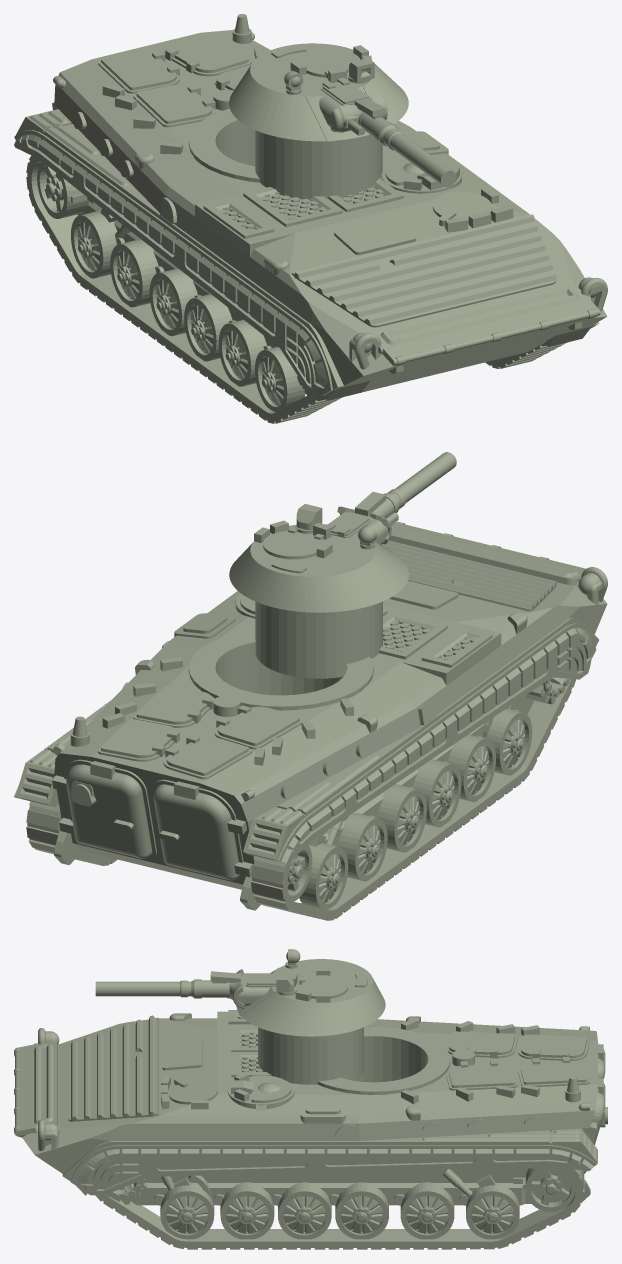
The model's file is bmp1_bergman.glb.
3 views of the same model, one above another, from view 1: azimuth 30°, elevation 25°; view 2: azimuth 150°, elevation 25°; view 3: azimuth 270°, elevation 25° (orthographic). The views are drawn at different scales.
Visible parts, largest first — view 1: HullMesh, TurretMesh; view 2: HullMesh, TurretMesh; view 3: HullMesh, TurretMesh.
Part boxes in pixels (bbox=[...]): HullMesh: bbox=[14, 14, 607, 423]; TurretMesh: bbox=[229, 43, 456, 199]; HullMesh: bbox=[14, 521, 607, 920]; TurretMesh: bbox=[229, 452, 456, 678]; HullMesh: bbox=[14, 1010, 607, 1249]; TurretMesh: bbox=[95, 949, 385, 1084].
Size of the model in its own units: 2.96 by 2.91 by 6.73.
